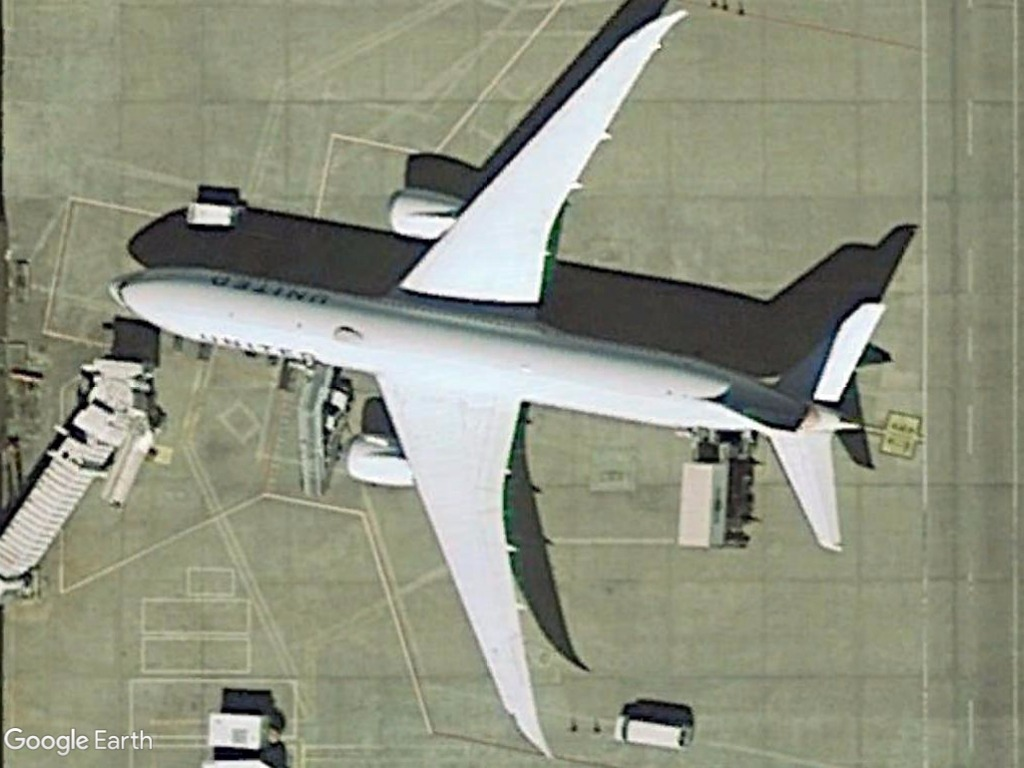airliner: (109, 5, 890, 763)
van: (611, 710, 696, 755)
